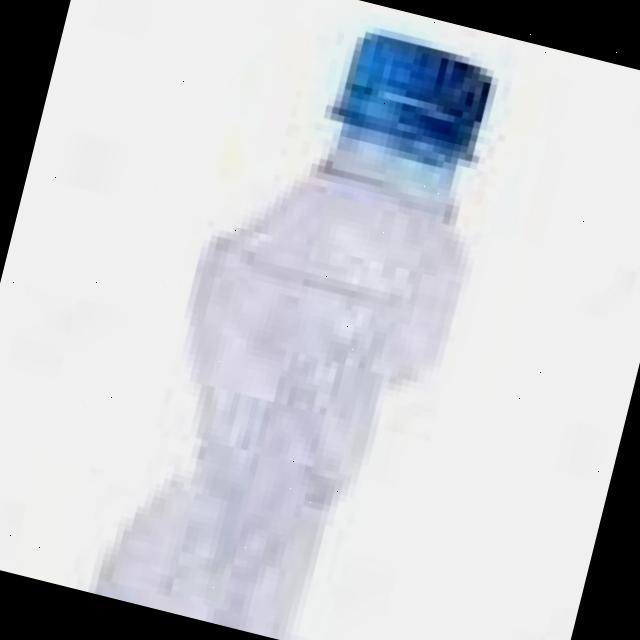trash: (71, 0, 523, 640)
